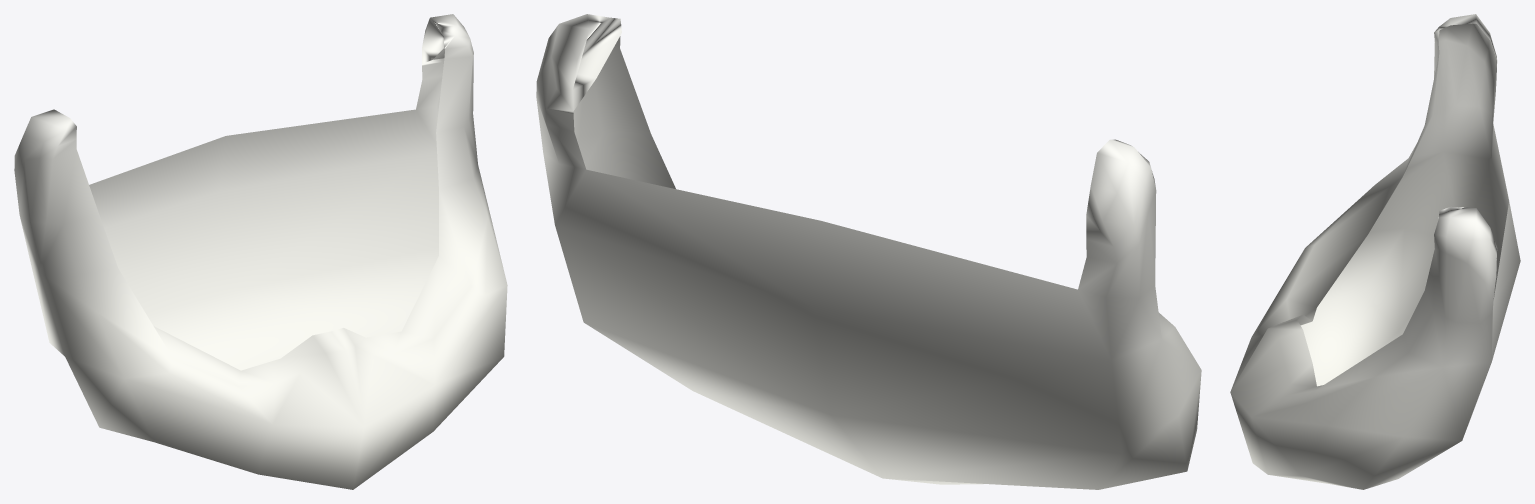
The model's file is Beard_White_10.fbx.
3 views of the same model, side by side, from view 1: azimuth 30°, elevation 25°; view 2: azimuth 150°, elevation 25°; view 3: azimuth 270°, elevation 25° (orthographic). The views are drawn at different scales.
Visible parts, largest first — view 1: Beard_White_10; view 2: Beard_White_10; view 3: Beard_White_10.
Boxes of the visible parts, x1,y1,x2,y2 form: Beard_White_10: (14, 14, 507, 489); Beard_White_10: (536, 14, 1201, 489); Beard_White_10: (1230, 14, 1520, 489).
Size of the model in its own units: 52.51 by 38.74 by 29.34.
